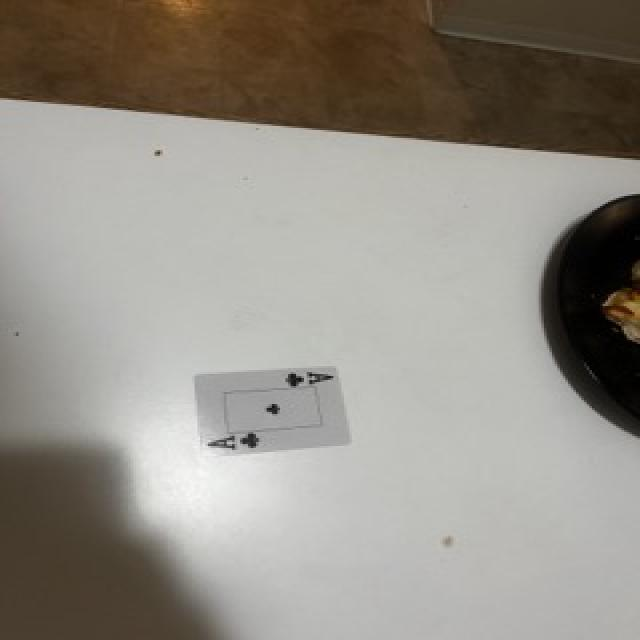Ace of clubs: (195, 368, 350, 454)
